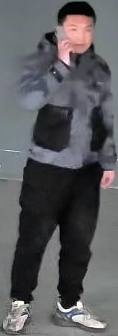phone: (20, 1, 98, 113)
